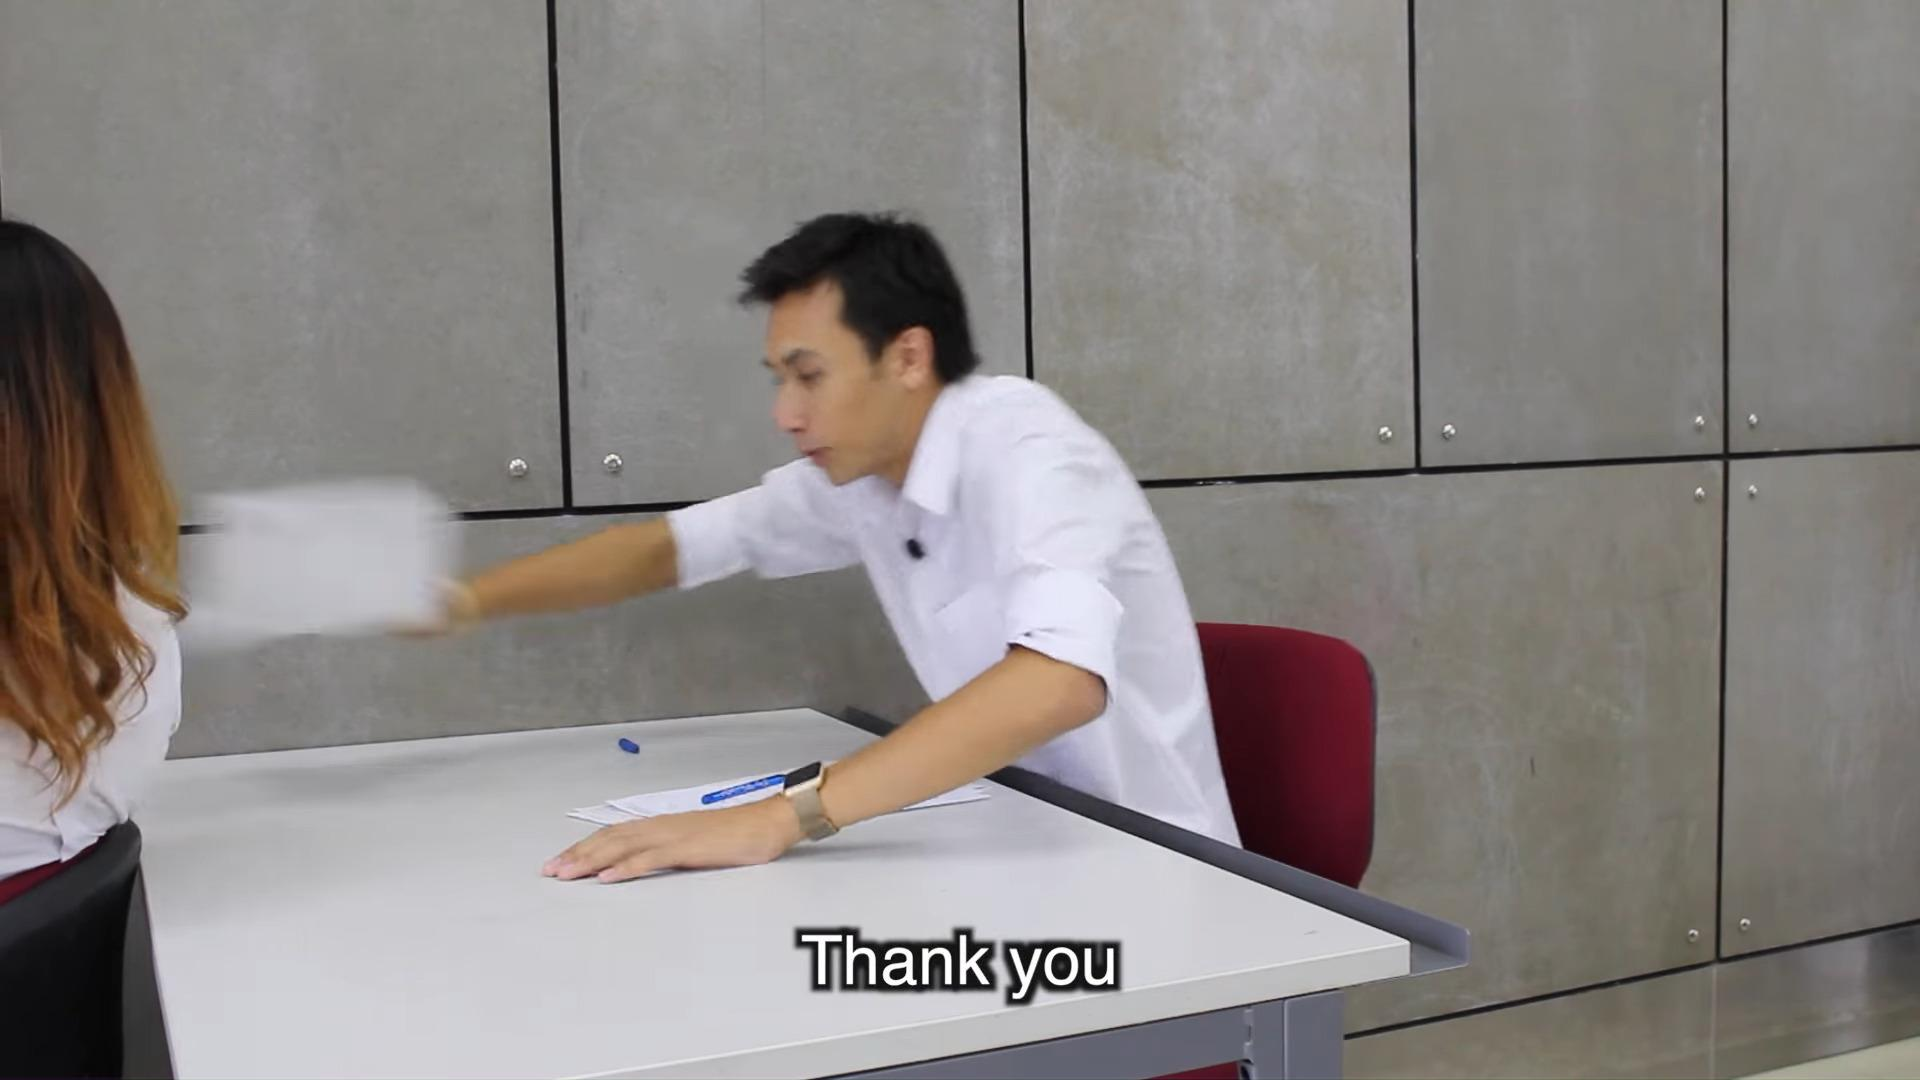cheating: (195, 181, 1253, 895)
